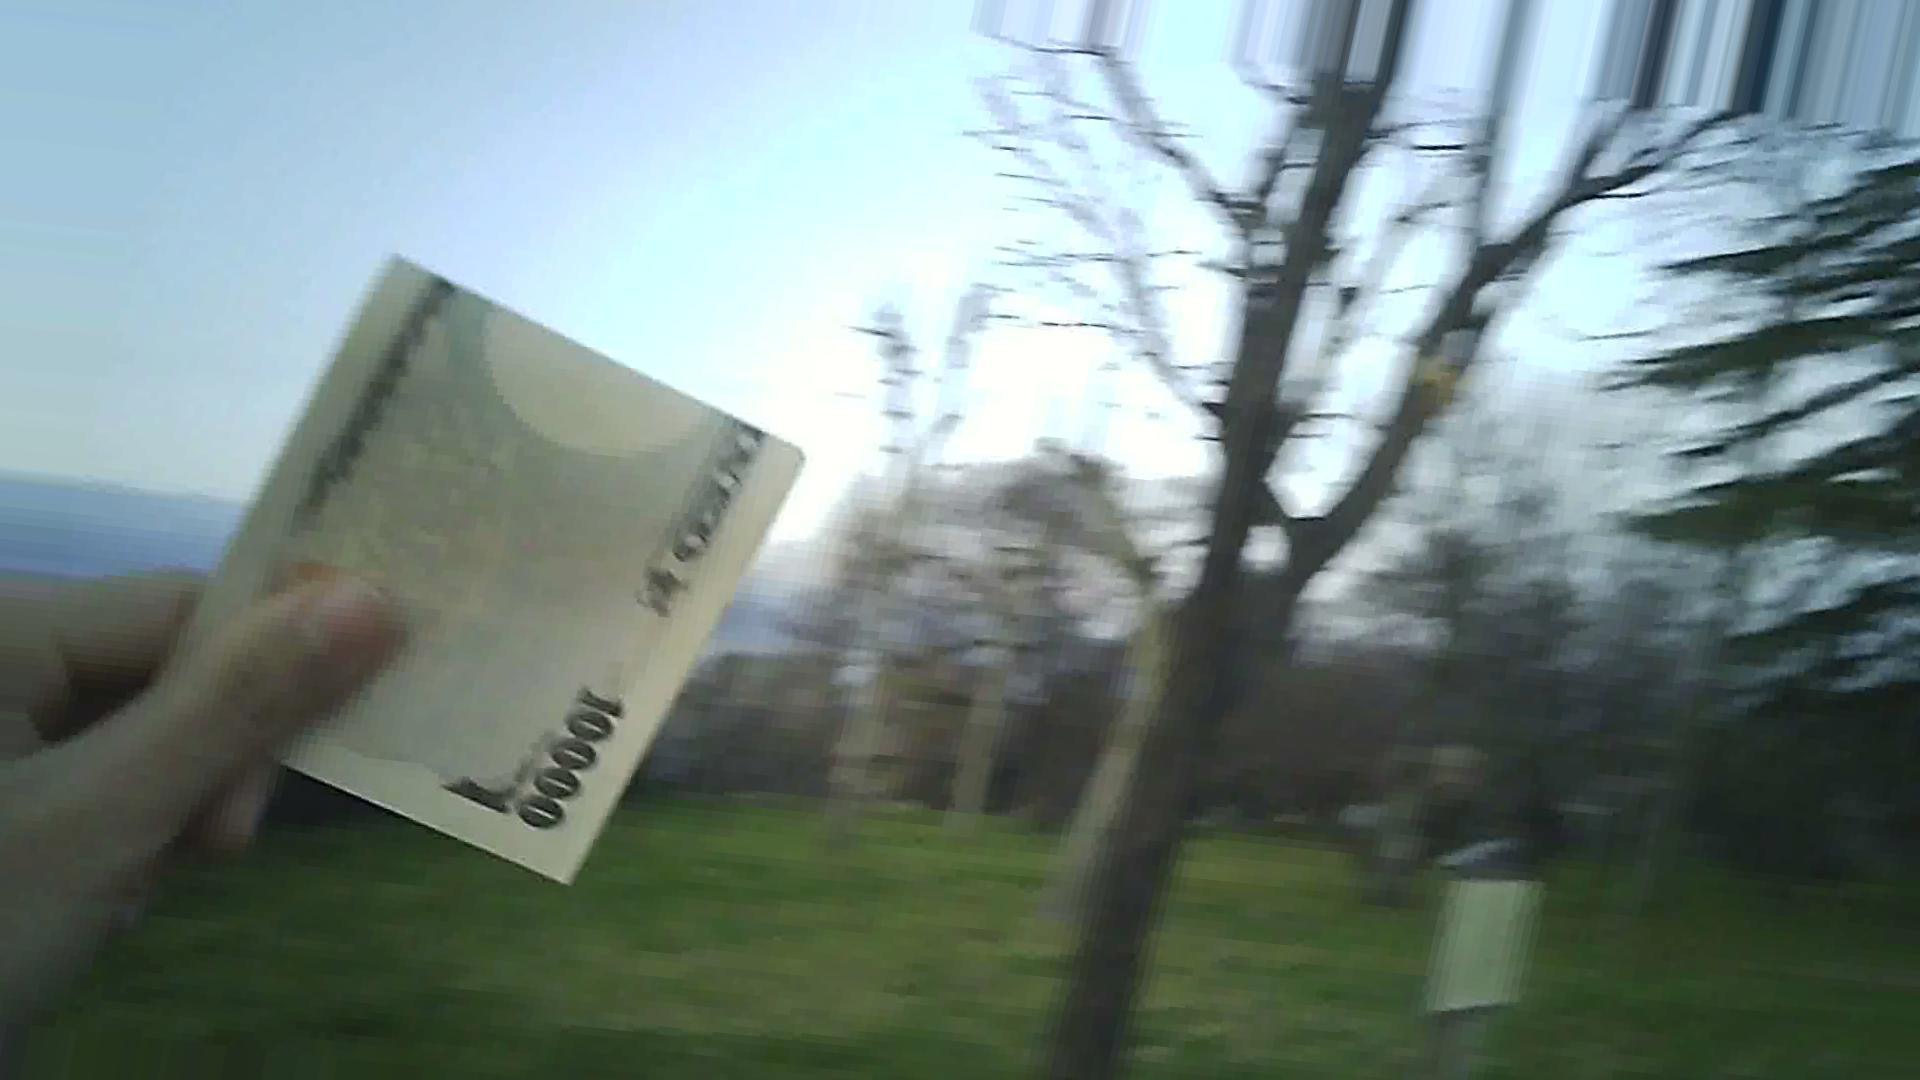10,000 Yen: (146, 255, 806, 903)
